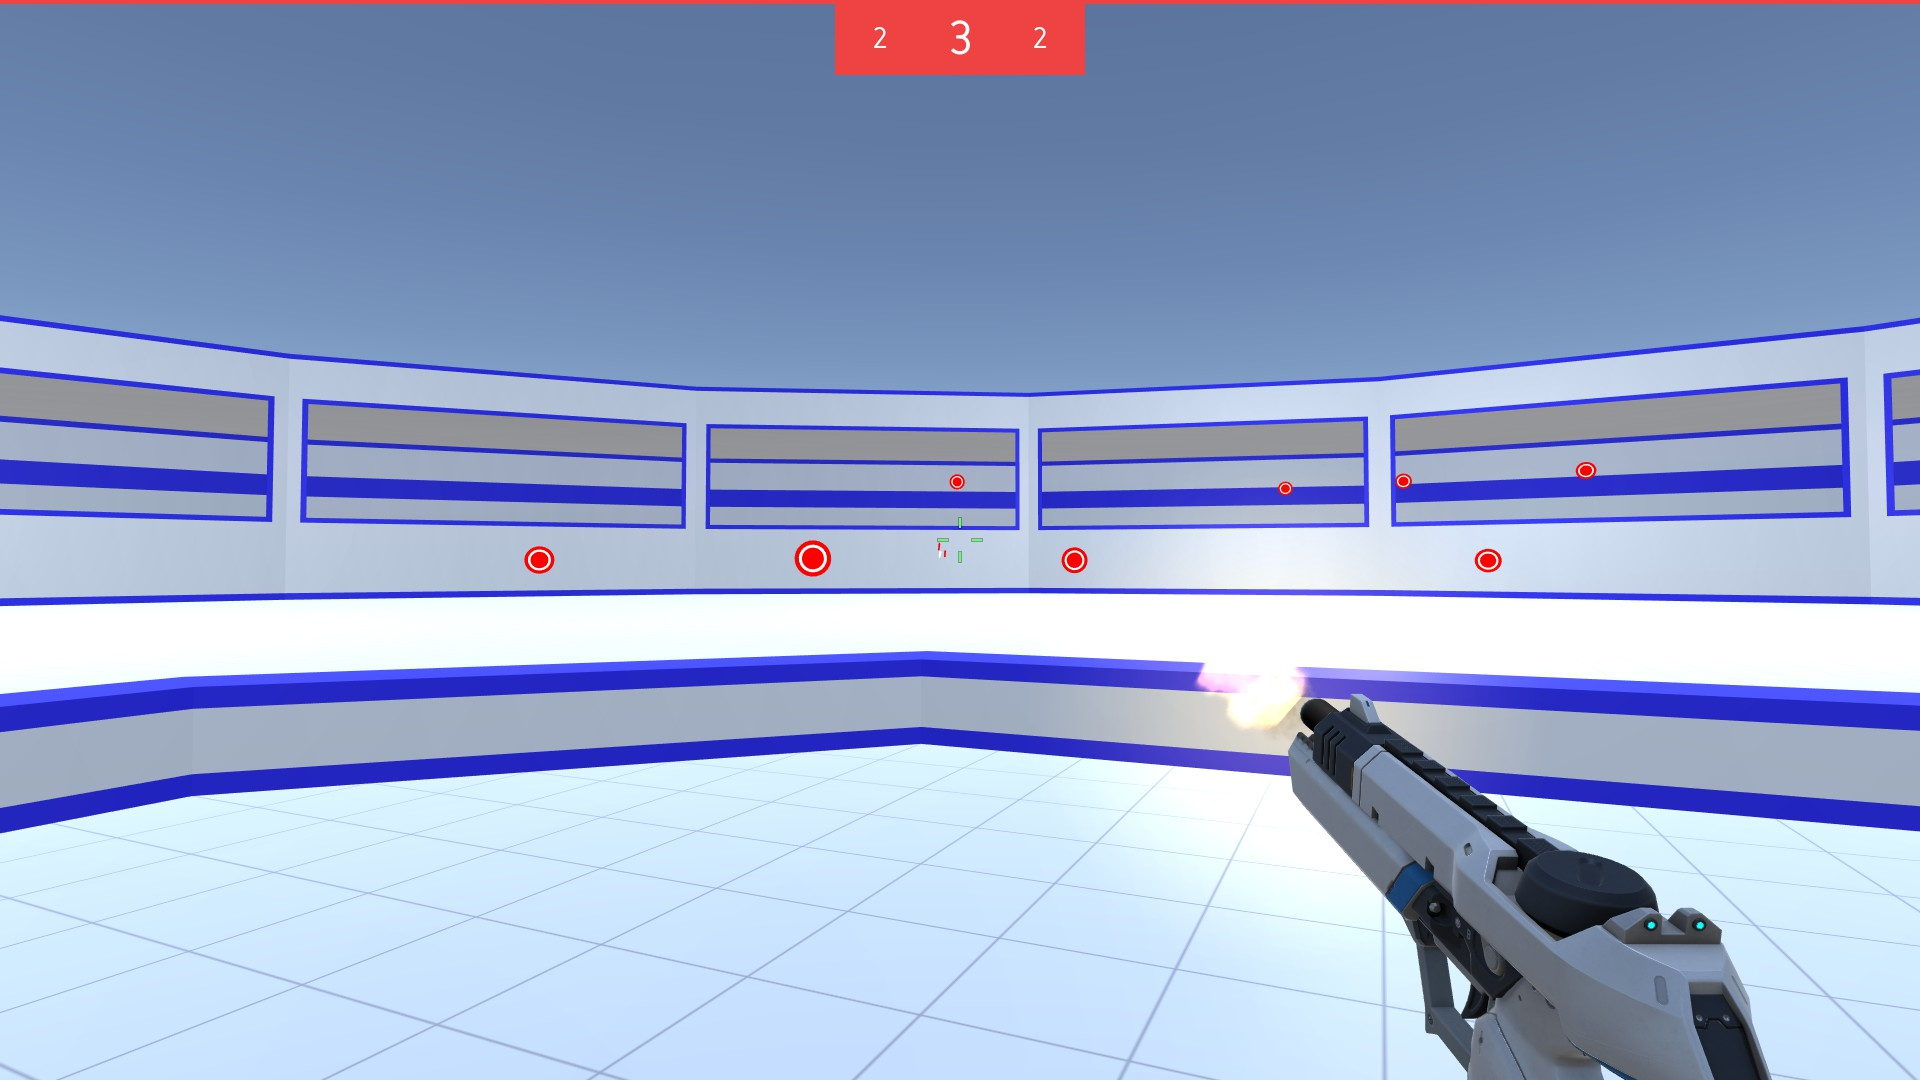target: (793, 539, 832, 576), (524, 545, 560, 575), (1059, 546, 1091, 575), (1472, 547, 1505, 572), (1575, 459, 1598, 480), (948, 473, 967, 491), (1395, 473, 1414, 491), (1276, 481, 1296, 495)
